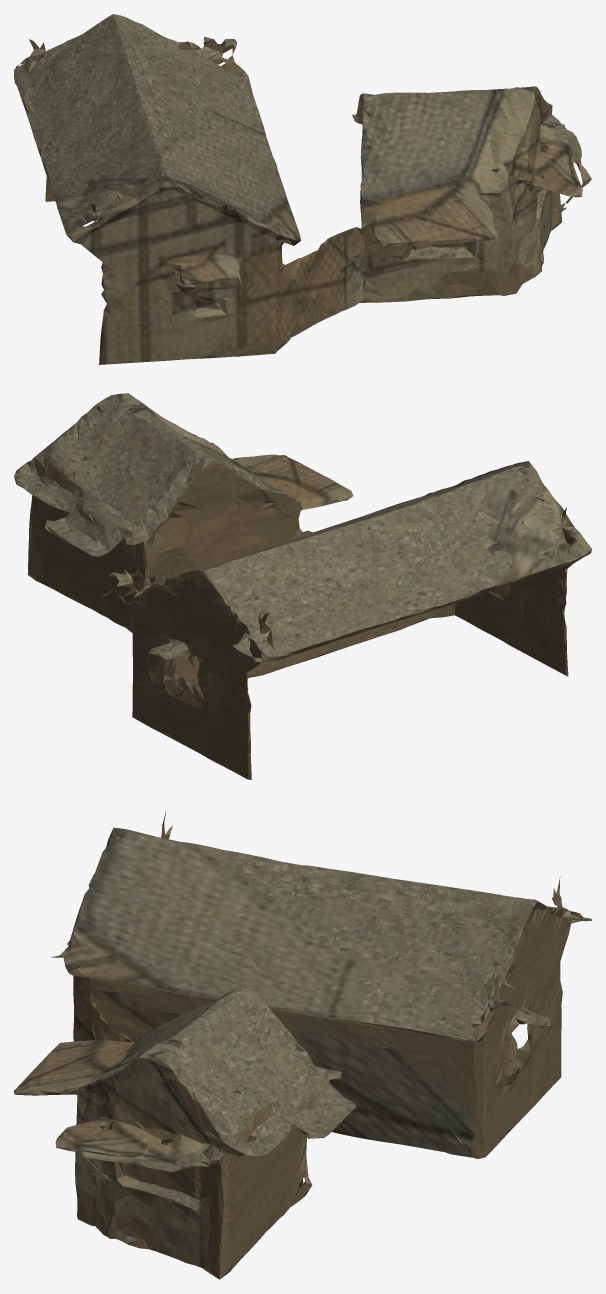
The picture shows the model from 3 angles, top to bottom: view 1: azimuth 30°, elevation 25°; view 2: azimuth 150°, elevation 25°; view 3: azimuth 270°, elevation 25°; orthographic projection. The views are drawn at different scales.
Visible parts, largest first — view 1: painted, roof, wall; view 2: roof, wall, painted; view 3: painted, roof, wall.
Part boxes in pixels (x1,y1,x2,y2): painted: [54, 86, 591, 364]; roof: [14, 14, 581, 309]; wall: [14, 35, 588, 363]; roof: [14, 394, 586, 742]; wall: [27, 405, 591, 779]; painted: [80, 393, 591, 667]; painted: [14, 811, 477, 1267]; roof: [82, 825, 591, 1247]; wall: [16, 823, 589, 1279].
Bounding box in the file's own units: 6.16 × 2.09 × 5.22.
3 materials, 3 textured.
